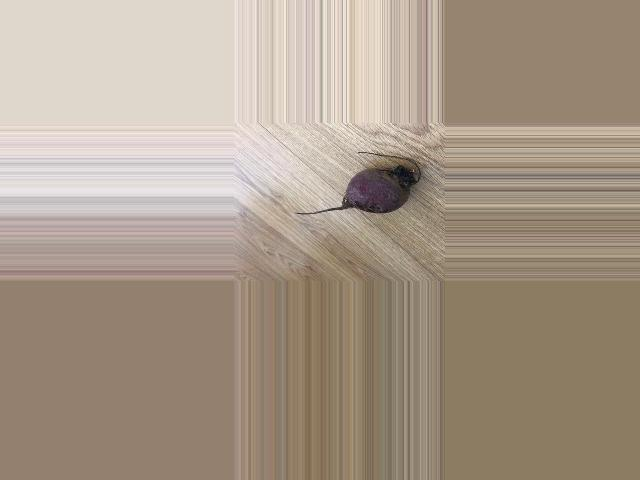beet: (294, 152, 420, 215)
